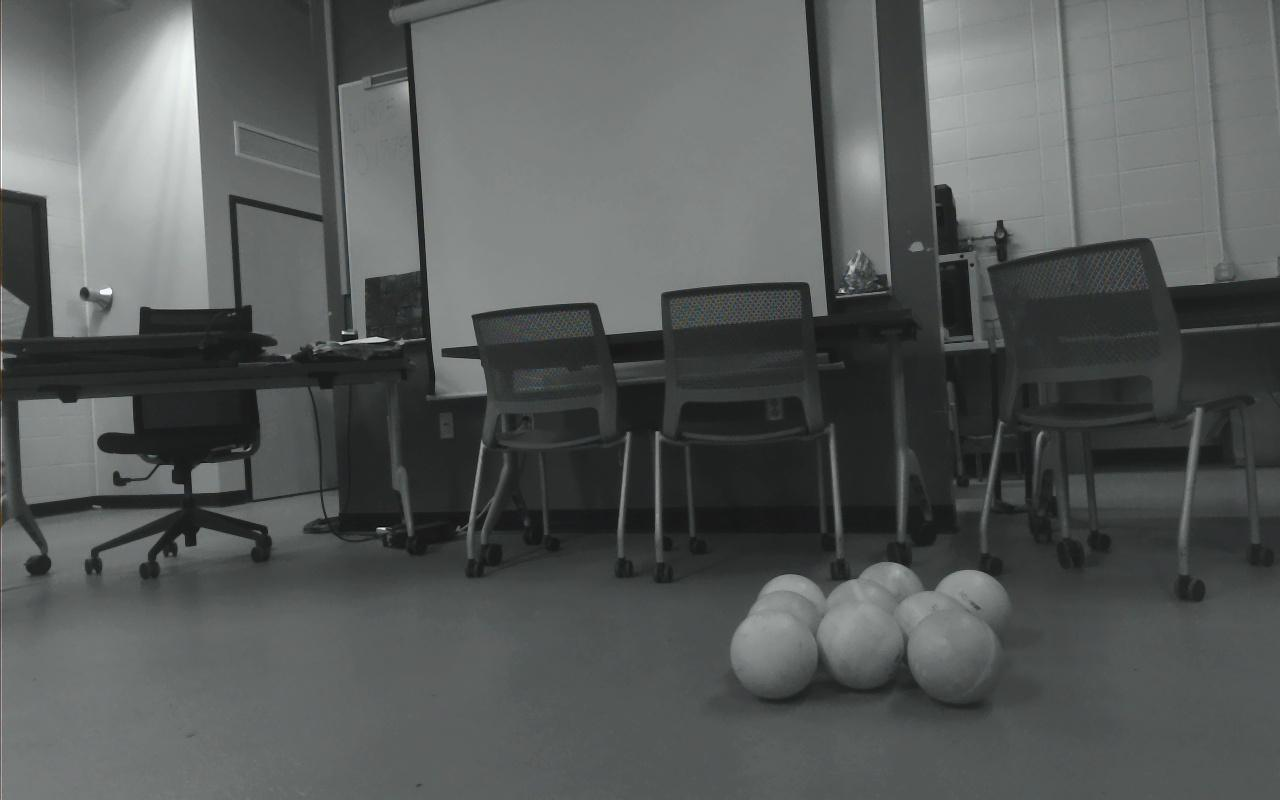Fuel: (906, 609, 1002, 706), (730, 609, 819, 700), (817, 599, 905, 690), (744, 590, 826, 676), (892, 590, 968, 671), (933, 570, 1011, 643), (854, 561, 926, 624), (754, 574, 828, 622), (823, 578, 899, 621)
